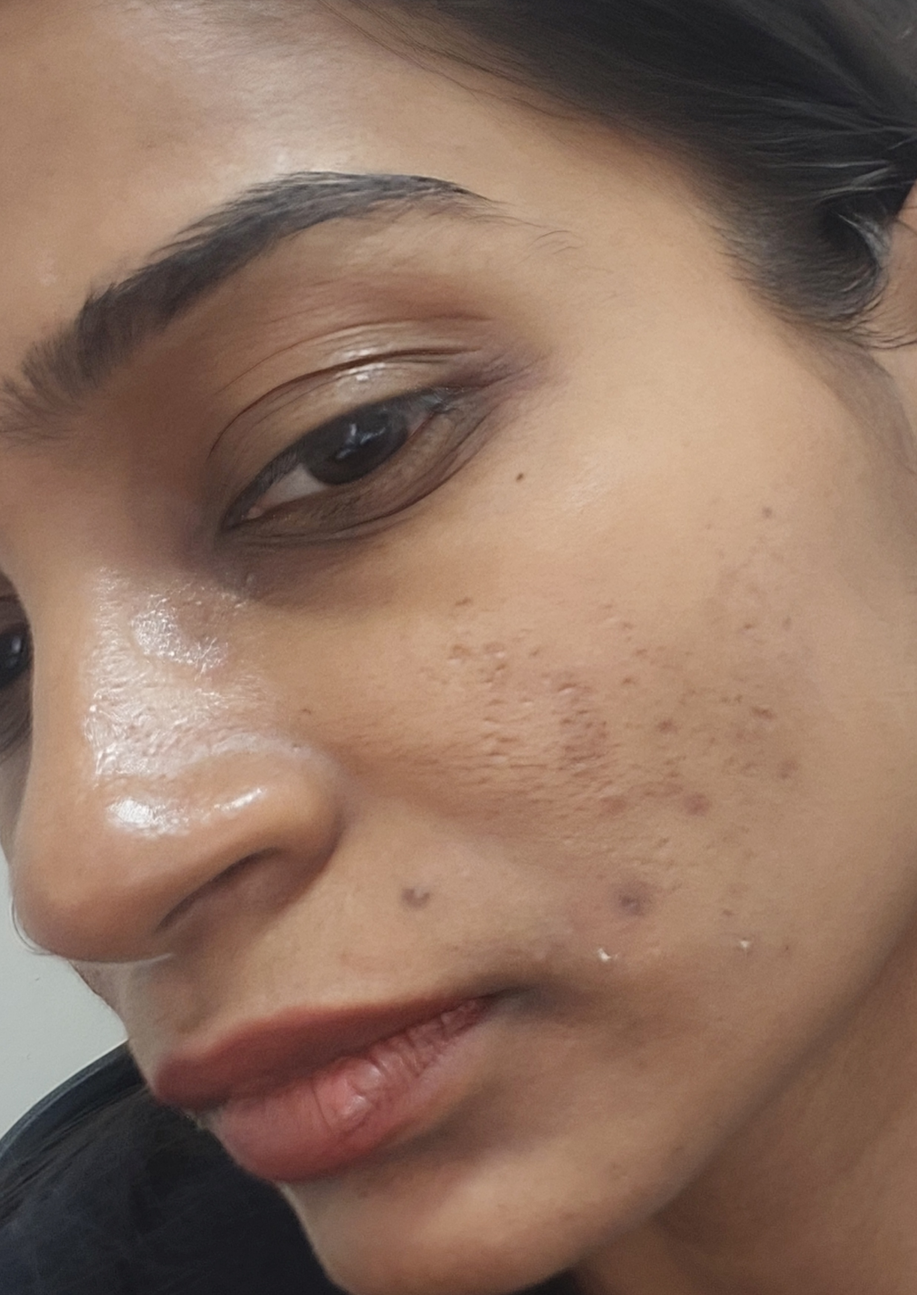papule: (597, 860, 679, 937), (379, 871, 463, 946)
